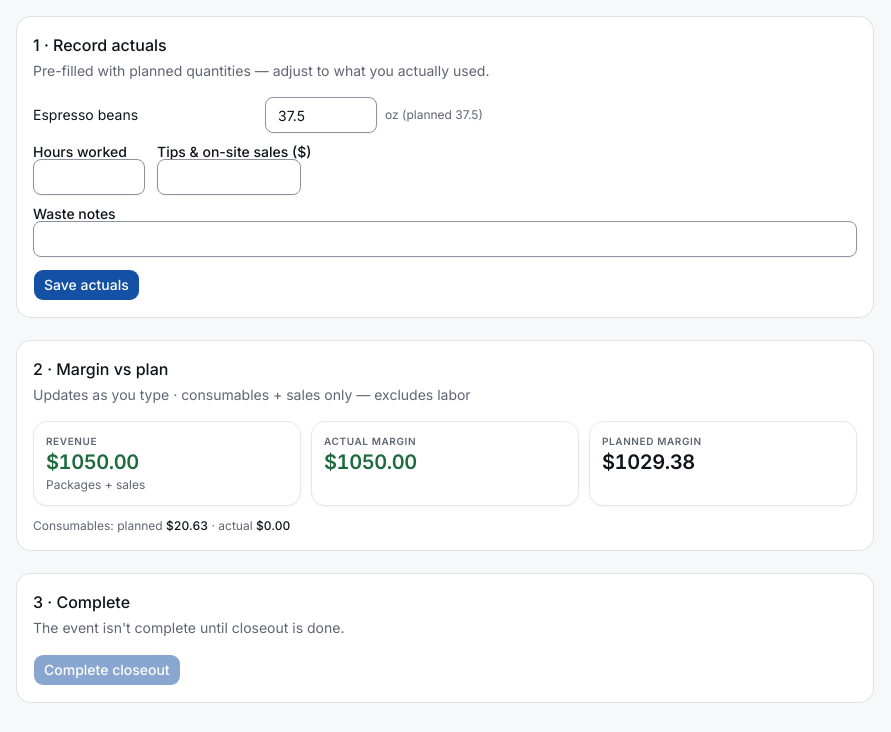
CloseoutClient delta chips › keeps showing the live recompute for edits typed during an in-flight save
The image size is (891, 732).
Replace the text in the number field named "Actual Espresso beans used" with "41": (321, 115) [265,97,377,133]
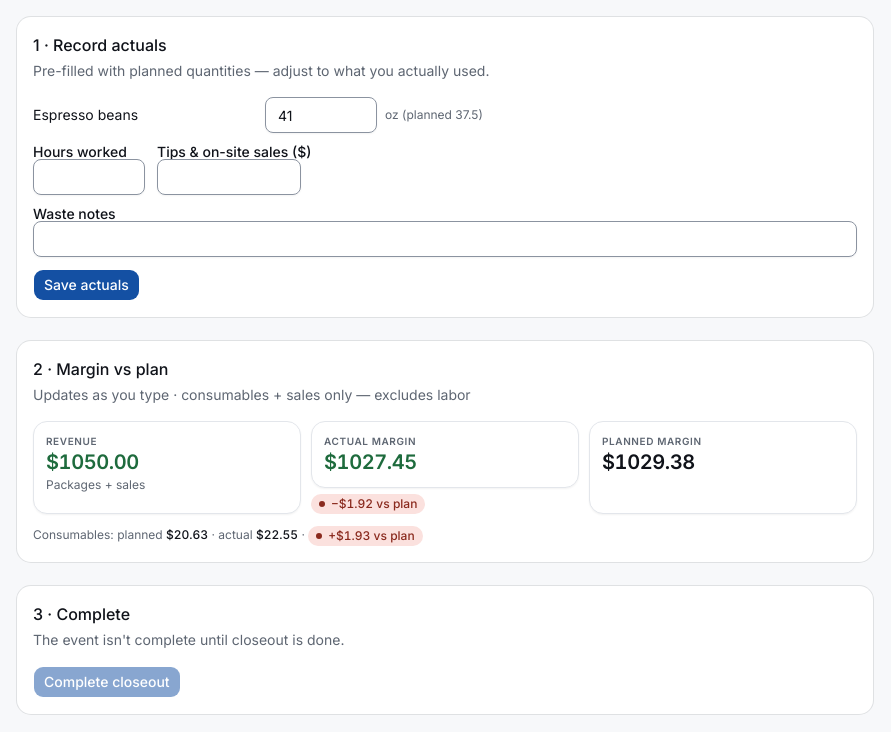
Click the button "Save actuals": (86, 285) [33,269,140,301]
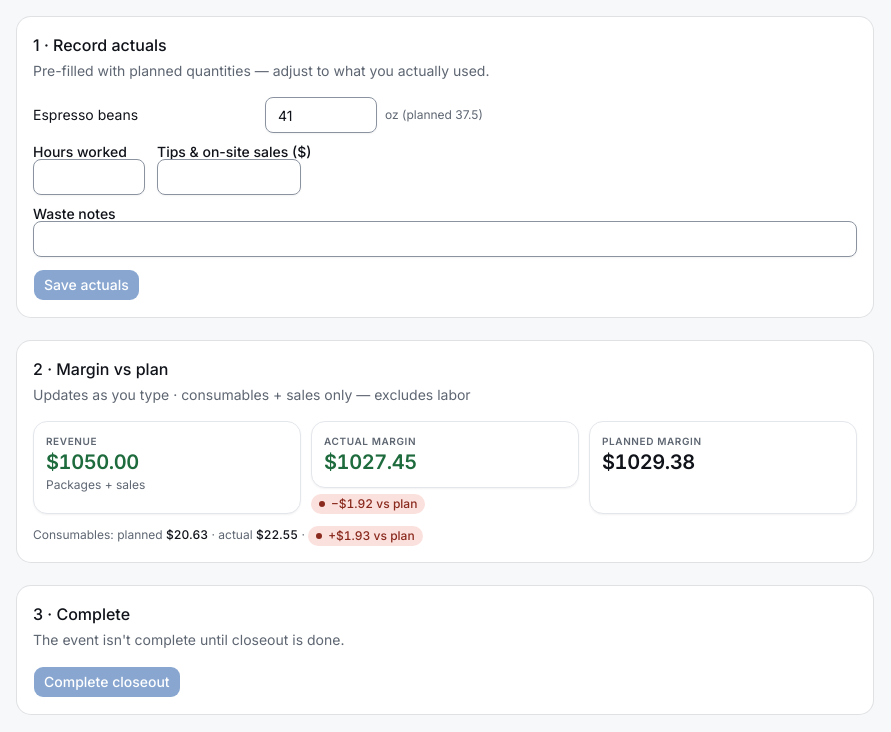
Replace the text in the number field named "Actual Espresso beans used" with "30": (321, 115) [265,97,377,133]
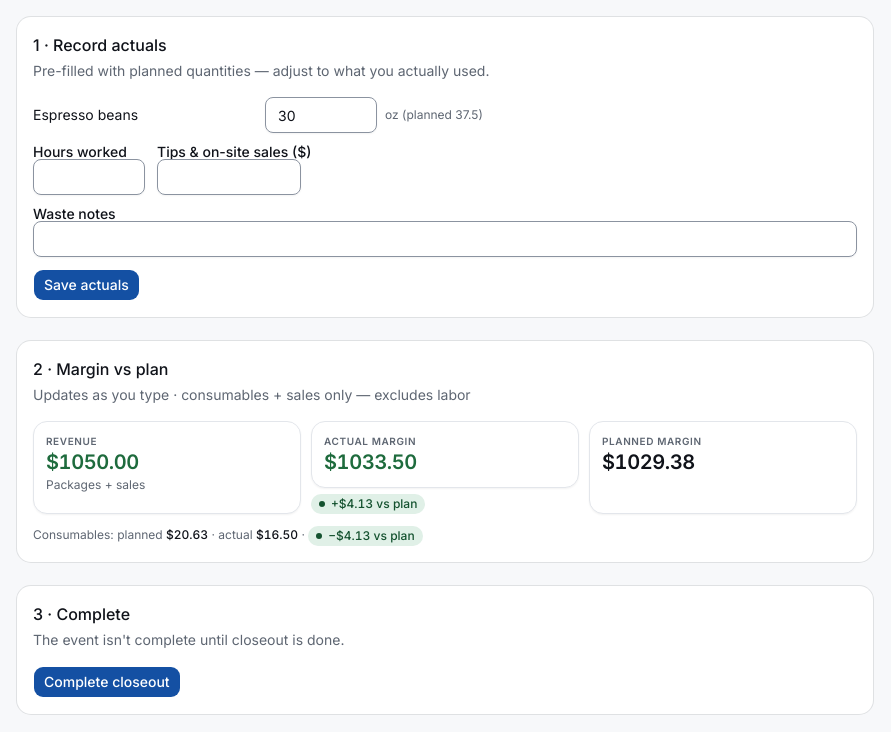
Expected: the button "Save actuals" is enabled, [33,269,140,301]
Expected: the text "$1033.50" is shown, [324,450,417,474]
